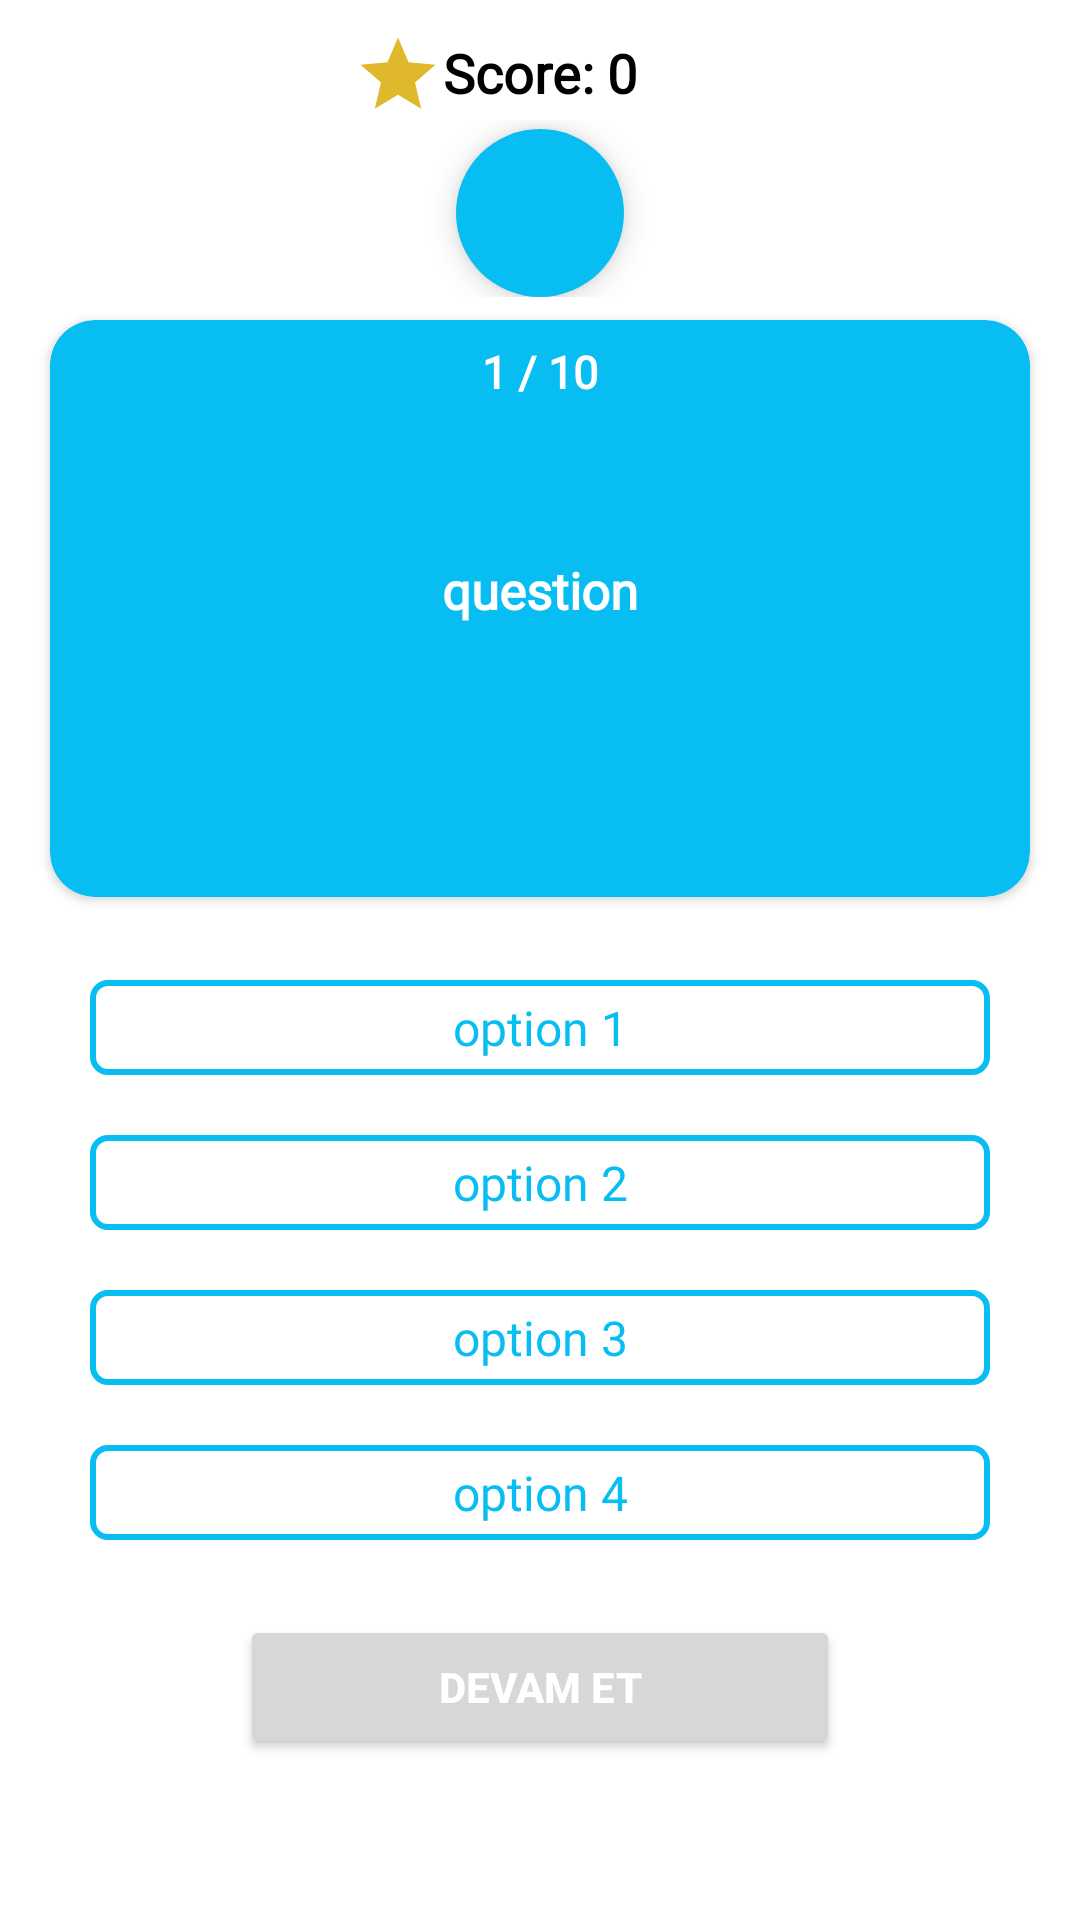

Screen size 1080px×1920px. Icon name, then its box in pixels as bbox=(x1, y1, x2, y2):
star: bbox=(361, 38, 435, 109)
